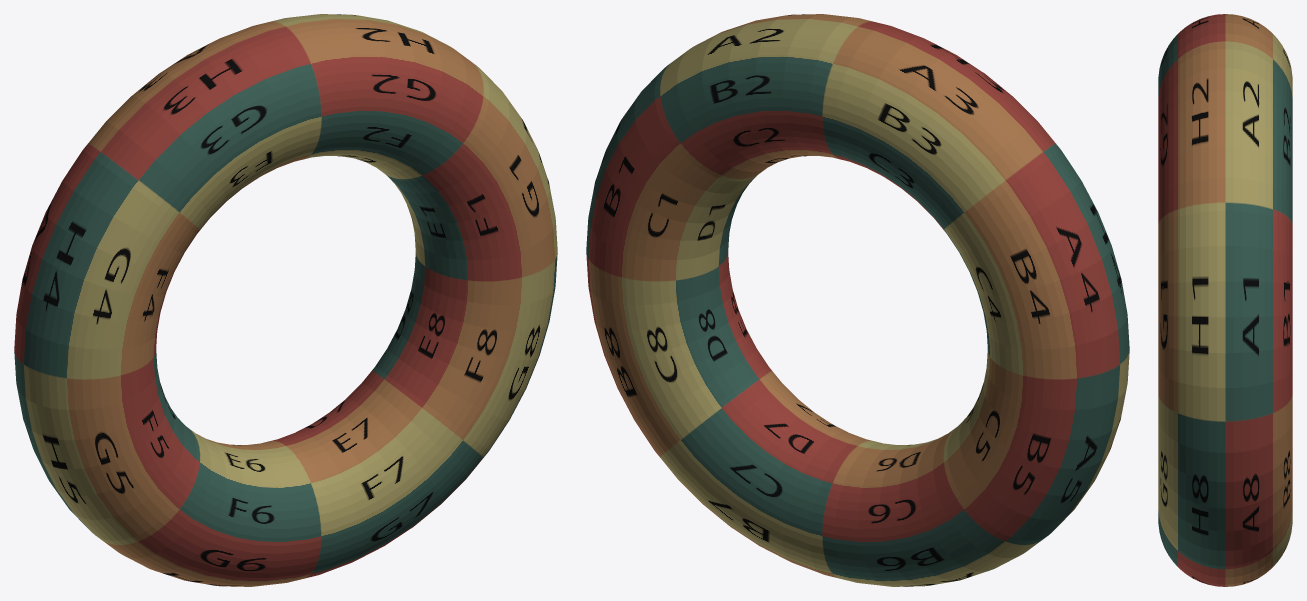
The model's file is texture_torus_R17_r17.glb.
3 renders of one model, left to right at view 1: azimuth 30°, elevation 25°; view 2: azimuth 150°, elevation 25°; view 3: azimuth 270°, elevation 25°, orthographic. The views are drawn at different scales.
Visible parts, largest first — view 1: world; view 2: world; view 3: world.
Boxes of the visible parts, x1,y1,x2,y2 form: world: (14, 14, 557, 586); world: (586, 14, 1129, 586); world: (1158, 14, 1292, 586).
Bounding box in the file's own units: 27.87 × 27.81 × 6.52.
1 material, 1 textured.
